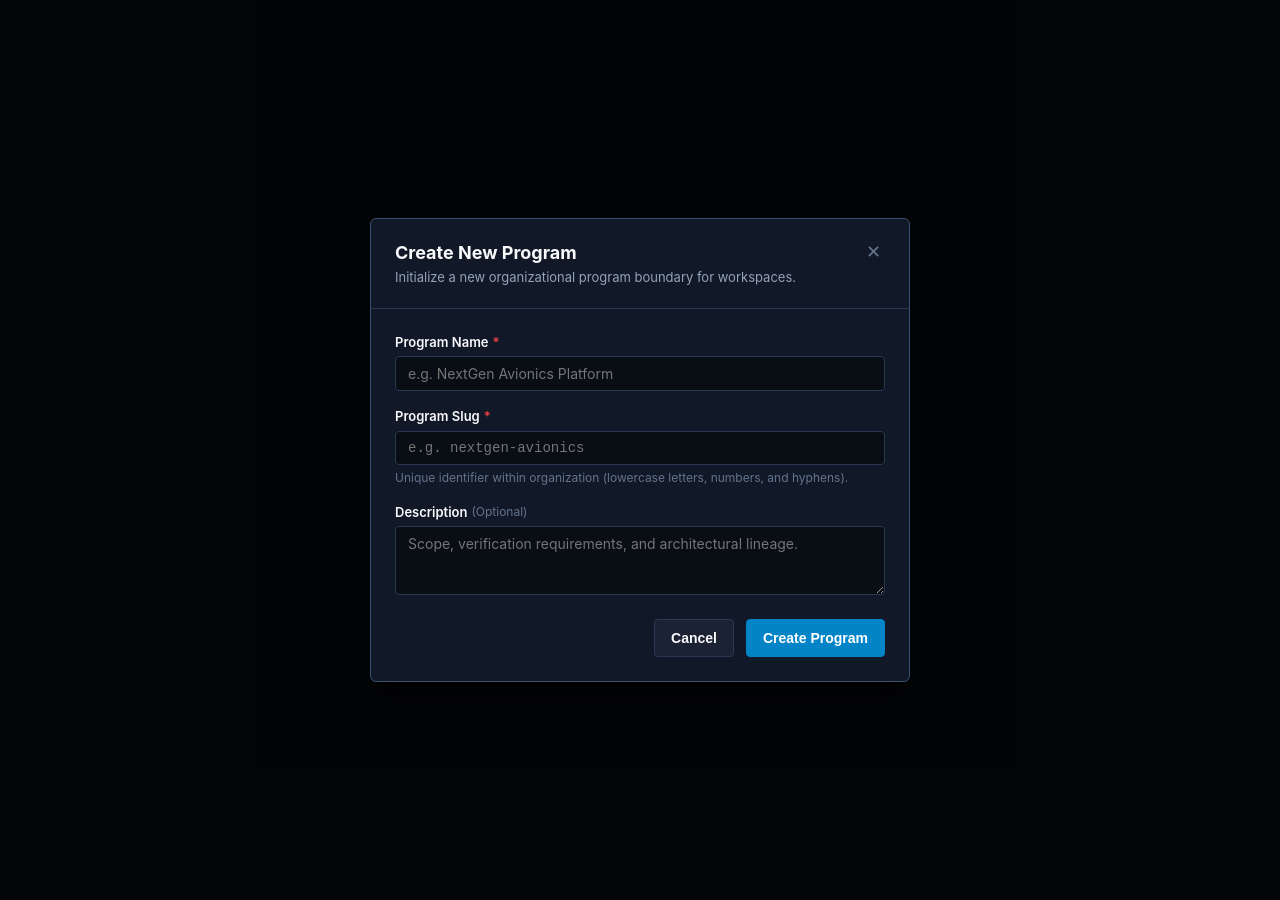
CreateProgramModal › displays validation error when required fields are empty
Click the button "Create Program" at x=816, y=638, box [746,619,885,657]
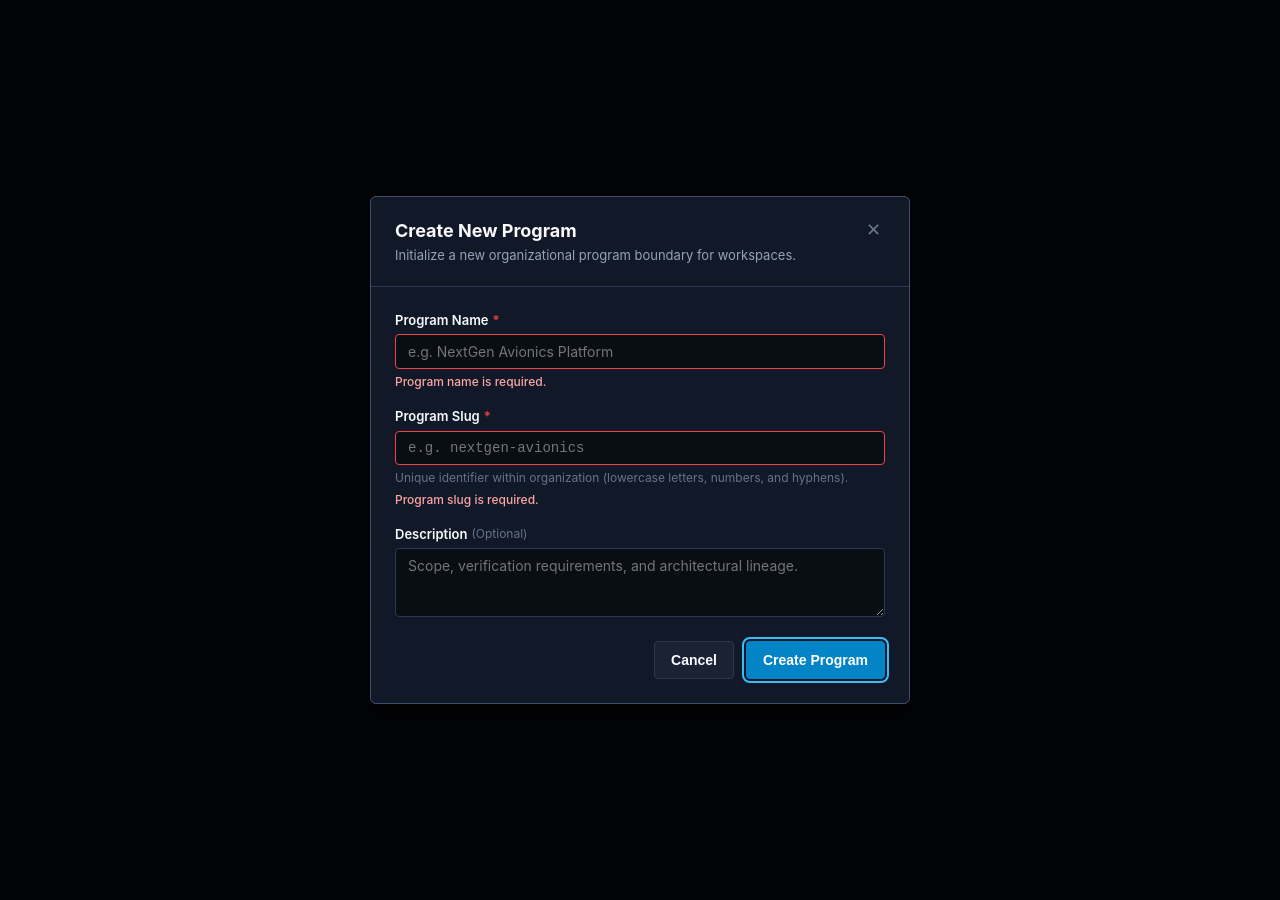
Expected: the text "Program name is required." is shown, [395,374,546,389]
